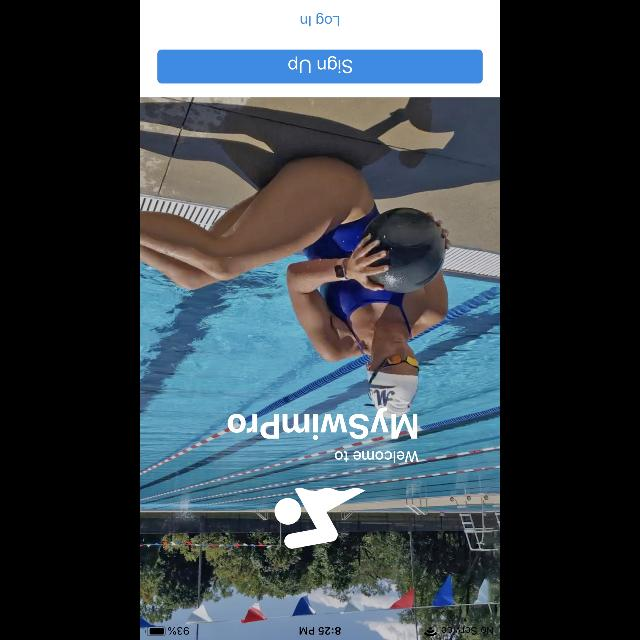image: (140, 98, 500, 640), (274, 488, 366, 548)
text: (228, 408, 417, 440), (335, 451, 419, 463), (301, 13, 339, 27)
textbutton: (158, 50, 482, 84)
uppertaskbar: (140, 626, 500, 640)
